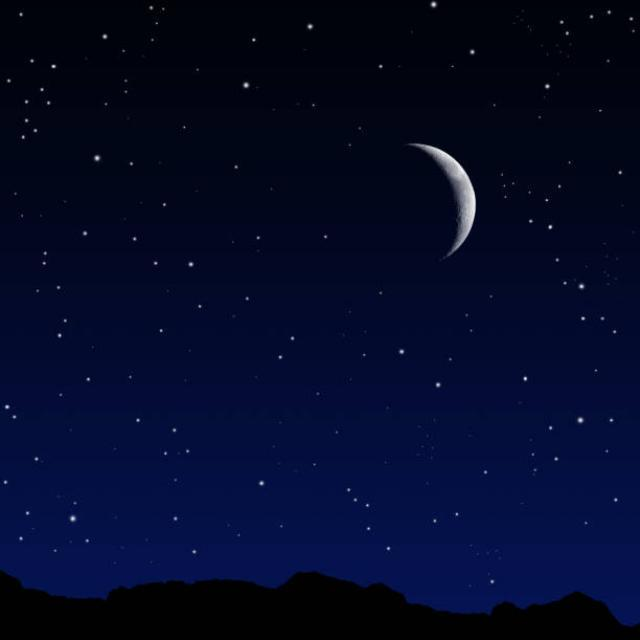moon: (330, 139, 480, 282)
